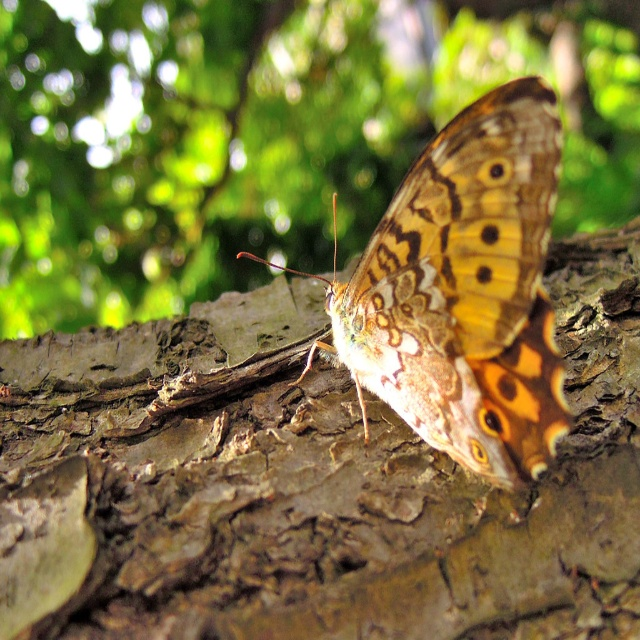Butterfly: (319, 52, 570, 542)
